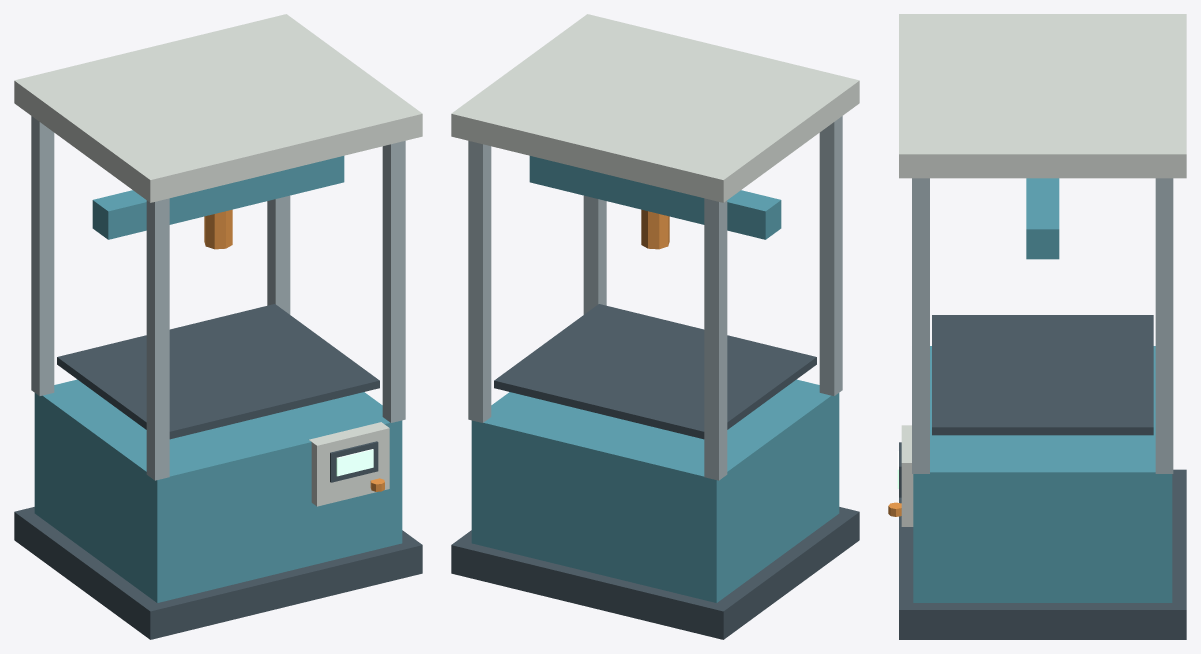
File: industrial-3d-printer.glb
3 views of the same model, side by side, from view 1: azimuth 30°, elevation 25°; view 2: azimuth 150°, elevation 25°; view 3: azimuth 270°, elevation 25° (orthographic). The views are drawn at different scales.
Parts seen in each view (by area): view 1: blue, cream, dark, steel, orange, light; view 2: blue, cream, dark, steel, orange; view 3: cream, blue, dark, steel.
Part boxes in pixels (x1,y1,x2,y2): blue: [34, 156, 402, 602]; cream: [14, 14, 422, 506]; dark: [14, 304, 422, 639]; steel: [31, 116, 405, 480]; orange: [204, 209, 384, 491]; light: [336, 449, 373, 476]; blue: [471, 156, 839, 602]; cream: [451, 14, 859, 202]; dark: [451, 304, 859, 639]; steel: [468, 116, 842, 480]; orange: [641, 209, 669, 249]; cream: [899, 14, 1186, 526]; blue: [913, 178, 1172, 602]; dark: [899, 315, 1186, 639]; steel: [912, 178, 1173, 473].
Bounding box in the file's own units: 1.5 × 2.42 × 1.35.
